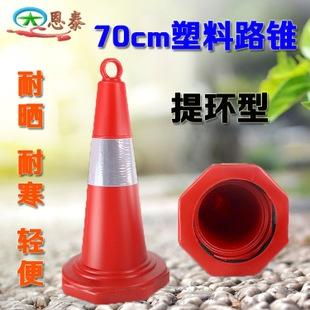cone_barrel: (69, 64, 161, 300), (16, 148, 31, 176), (31, 146, 43, 176), (31, 68, 43, 98)
